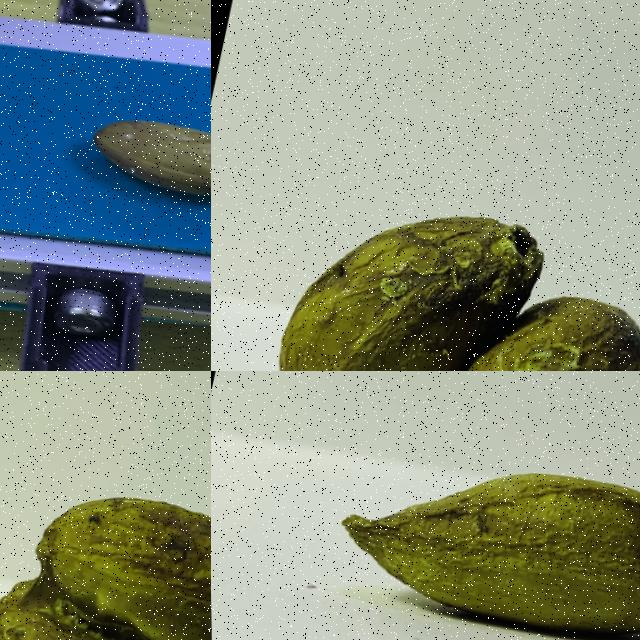Agglomerated_cocoabeans: (214, 149, 639, 370), (0, 439, 210, 639)
Fine_cocoabeans: (211, 371, 639, 639), (0, 44, 210, 296)
